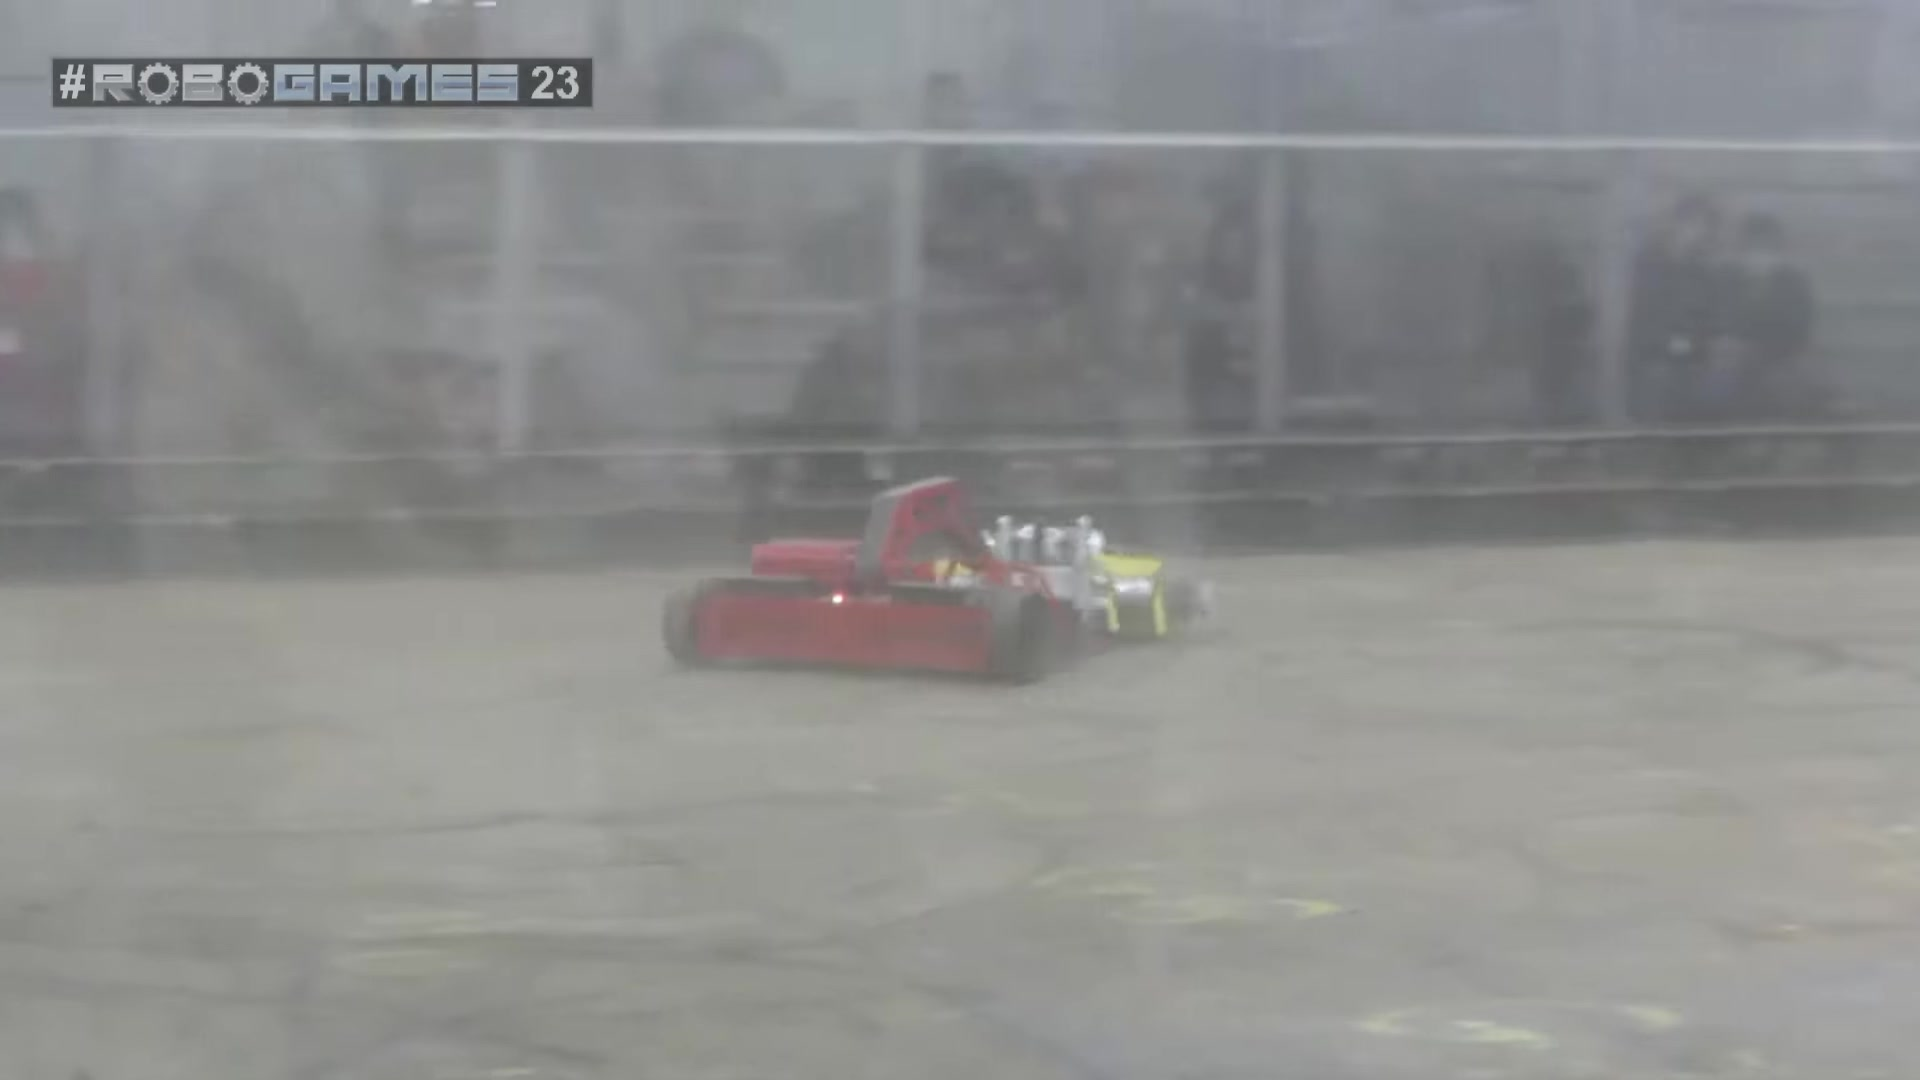combatbot: (666, 475, 1104, 682), (930, 510, 1215, 637)
